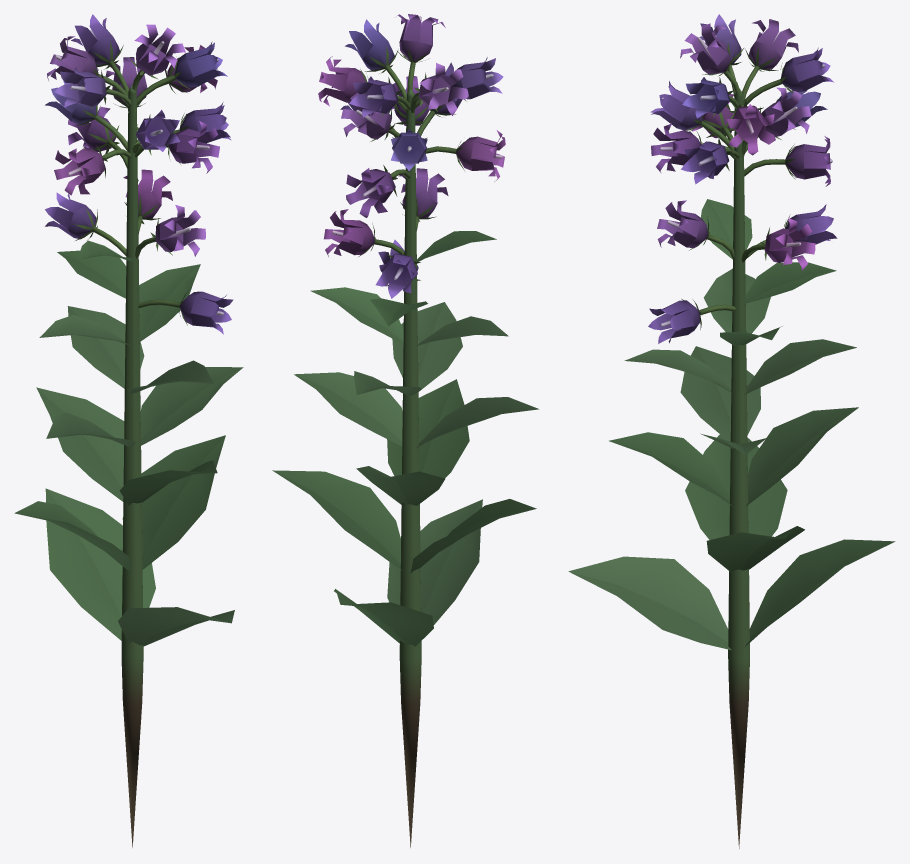
3 views of the same model, side by side, from view 1: azimuth 30°, elevation 25°; view 2: azimuth 150°, elevation 25°; view 3: azimuth 270°, elevation 25° (orthographic).
Parts seen in each view (by area): view 1: base.512; view 2: base.512; view 3: base.512.
Part boxes in pixels (x1,y1,x2,y2): base.512: (14, 14, 243, 847); base.512: (272, 14, 539, 847); base.512: (568, 14, 895, 848).
Size of the model in its own units: 0.1507 by 0.5 by 0.1798.
